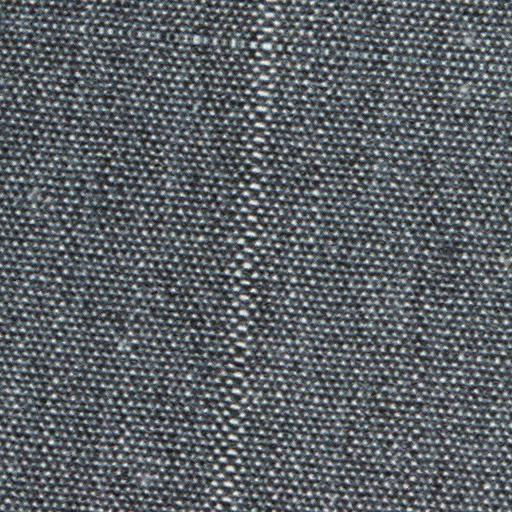slub: (197, 1, 305, 510)
